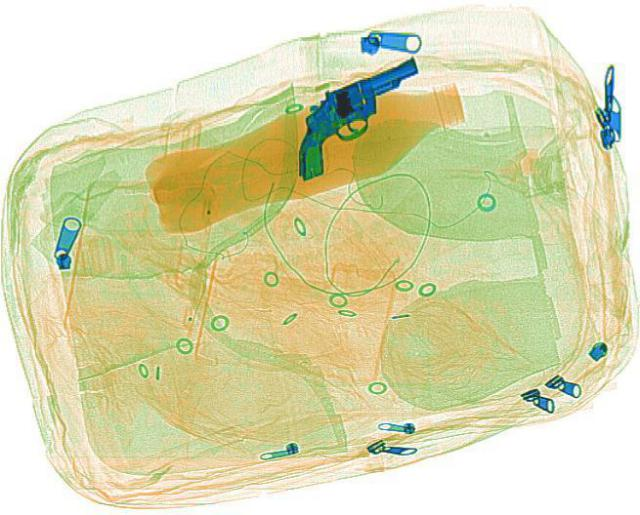Gun: (256, 53, 458, 183)
